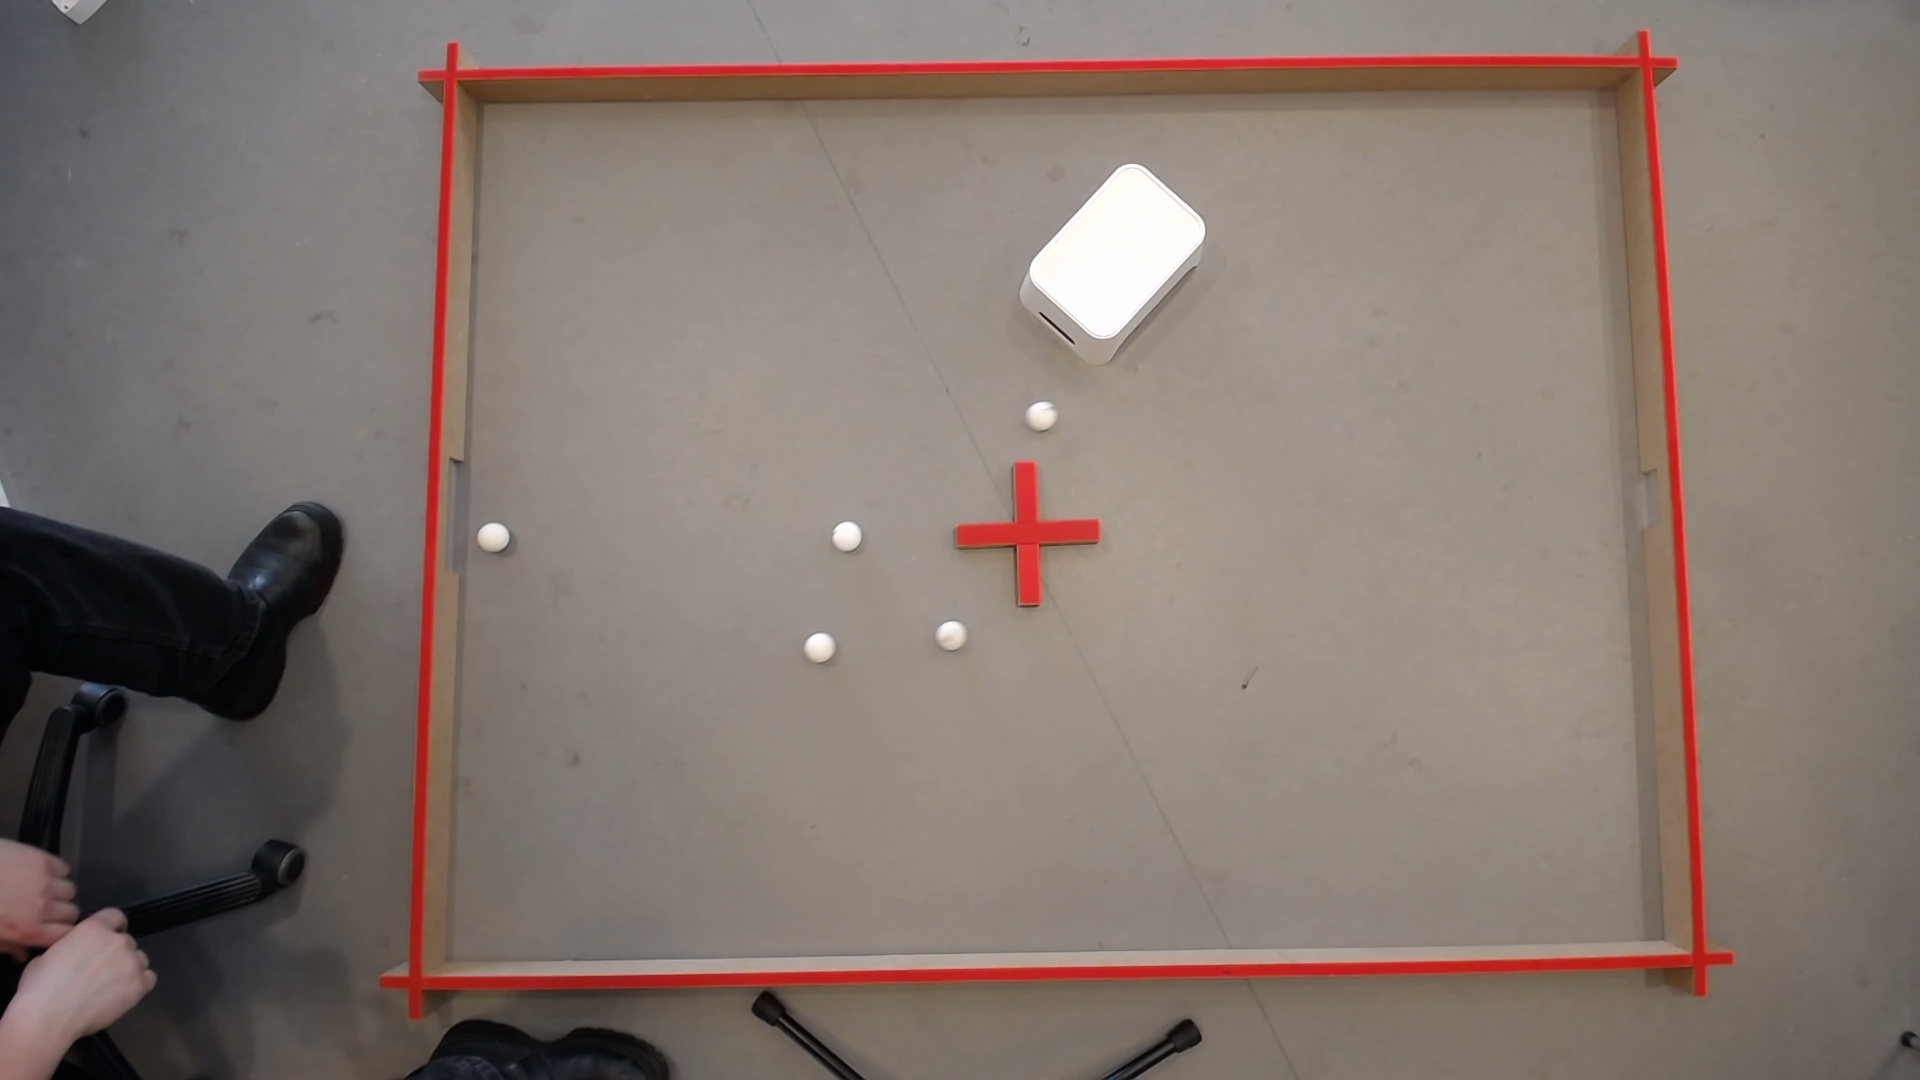balls: (1019, 150, 1215, 348), (828, 516, 864, 551), (475, 516, 510, 549), (1025, 396, 1056, 429), (806, 633, 831, 655)
car: (936, 616, 965, 641)
